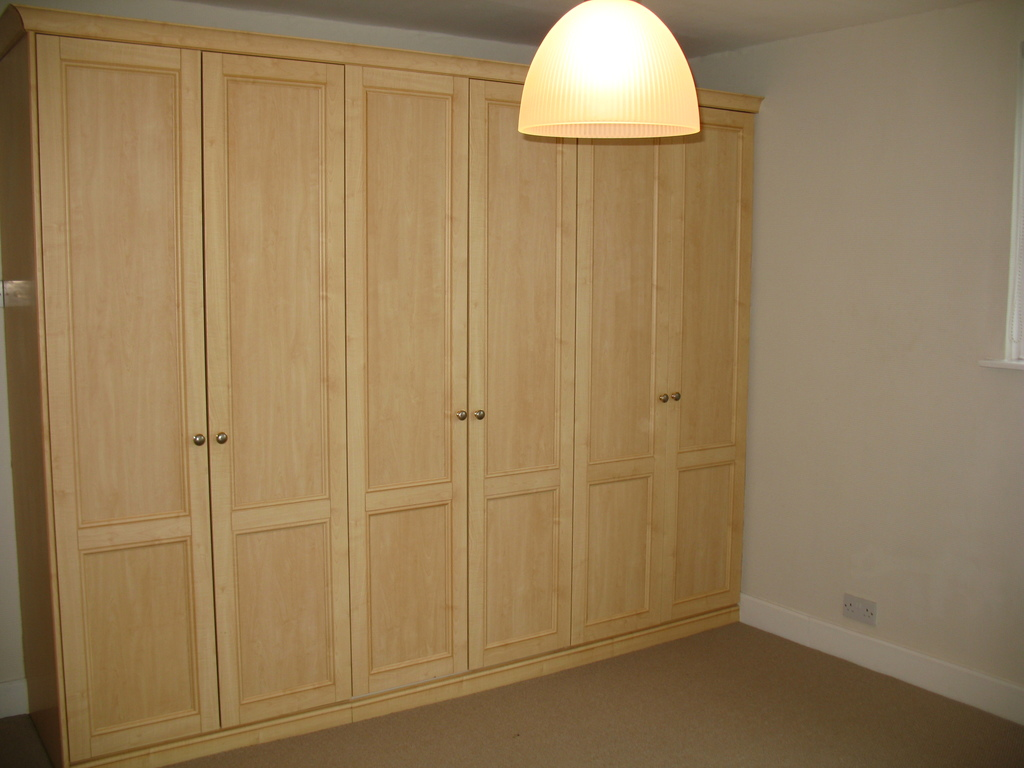cabinet door: (38, 44, 215, 756), (209, 51, 350, 729), (350, 65, 472, 673), (470, 84, 573, 685), (572, 106, 657, 628), (675, 131, 750, 642)
handle: (182, 429, 212, 457), (214, 425, 230, 458), (667, 379, 684, 407), (458, 401, 471, 436), (472, 406, 487, 434), (658, 386, 670, 407)
